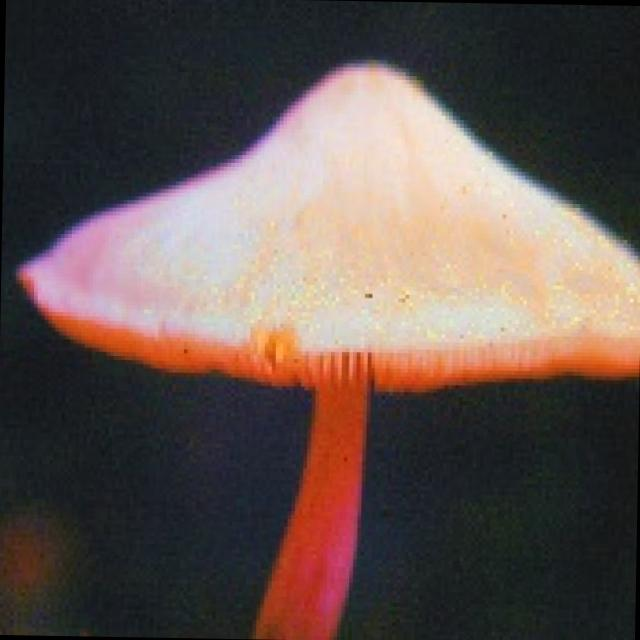mushroom: (5, 41, 640, 640)
